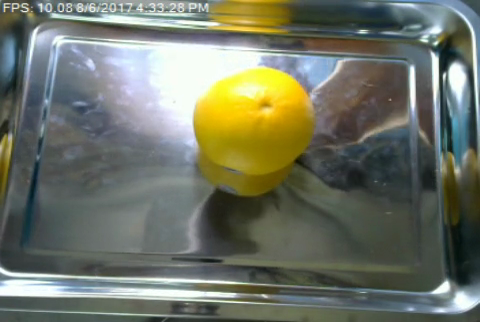Orange: (191, 65, 317, 175)
